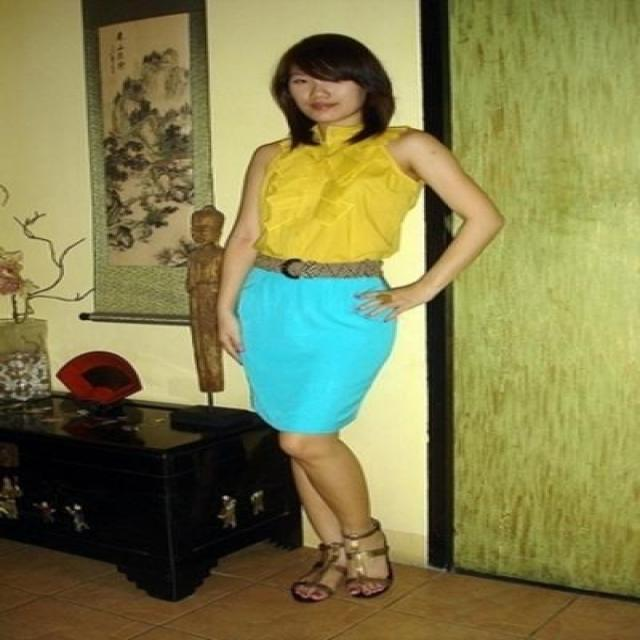shirt: (261, 119, 422, 262)
shoe: (268, 529, 394, 617)
skirt: (238, 269, 396, 433)
